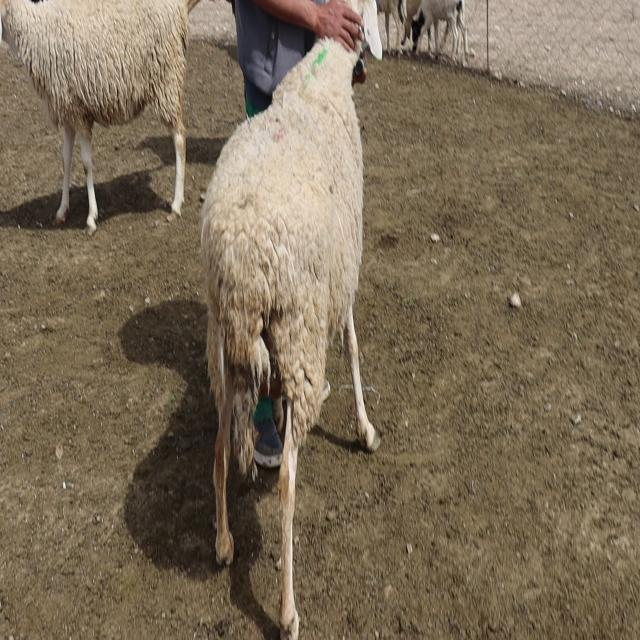Score_4: (201, 0, 382, 639)
